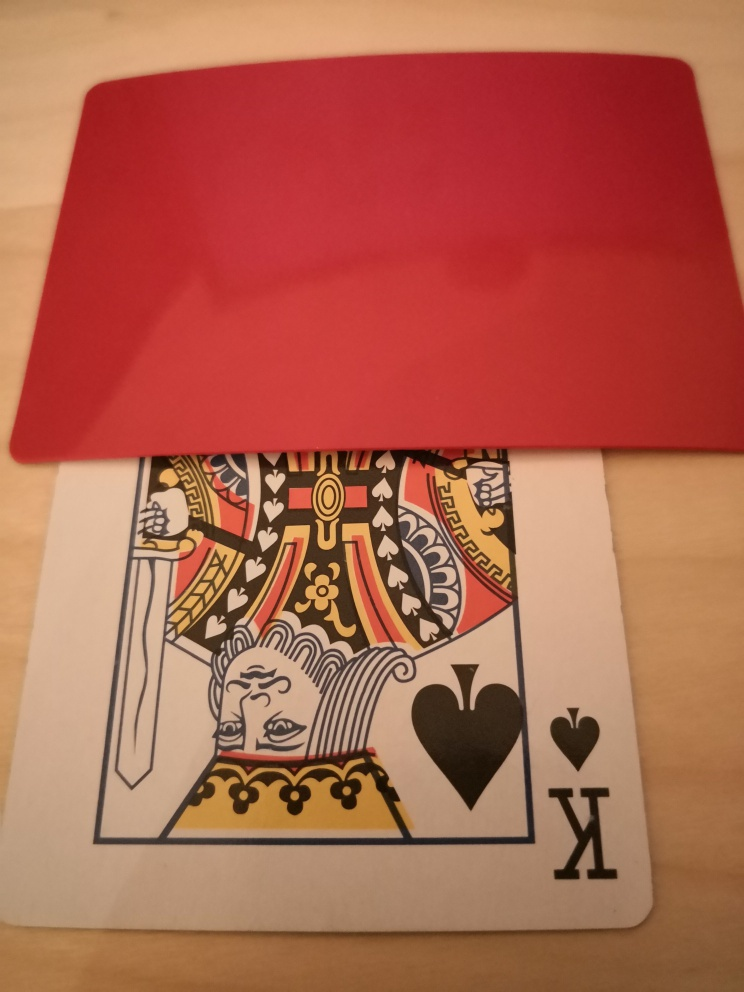king: (1, 449, 655, 933)
